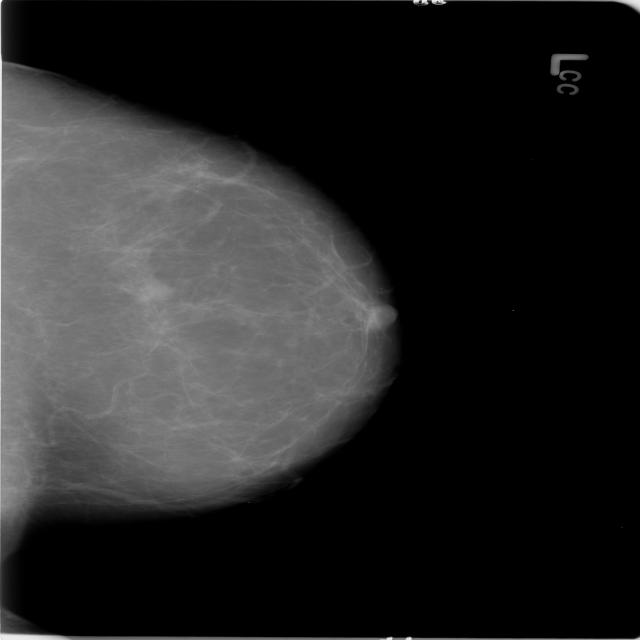normal: (0, 37, 409, 554)
